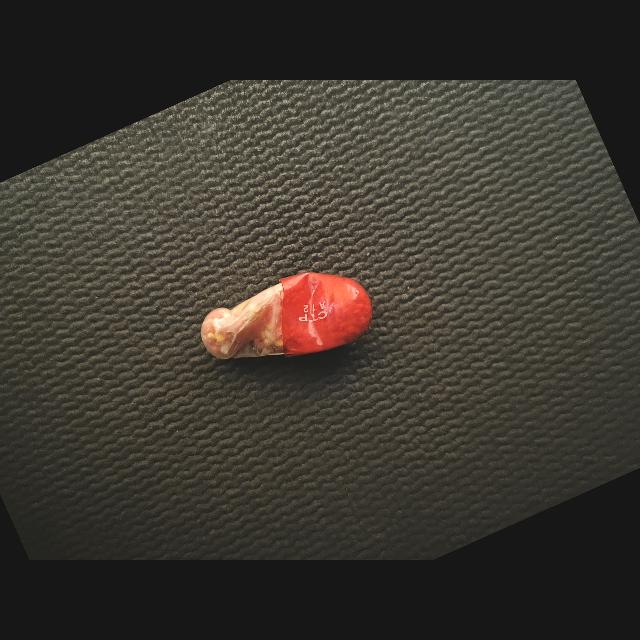Defective Capsule: (201, 272, 372, 359)
